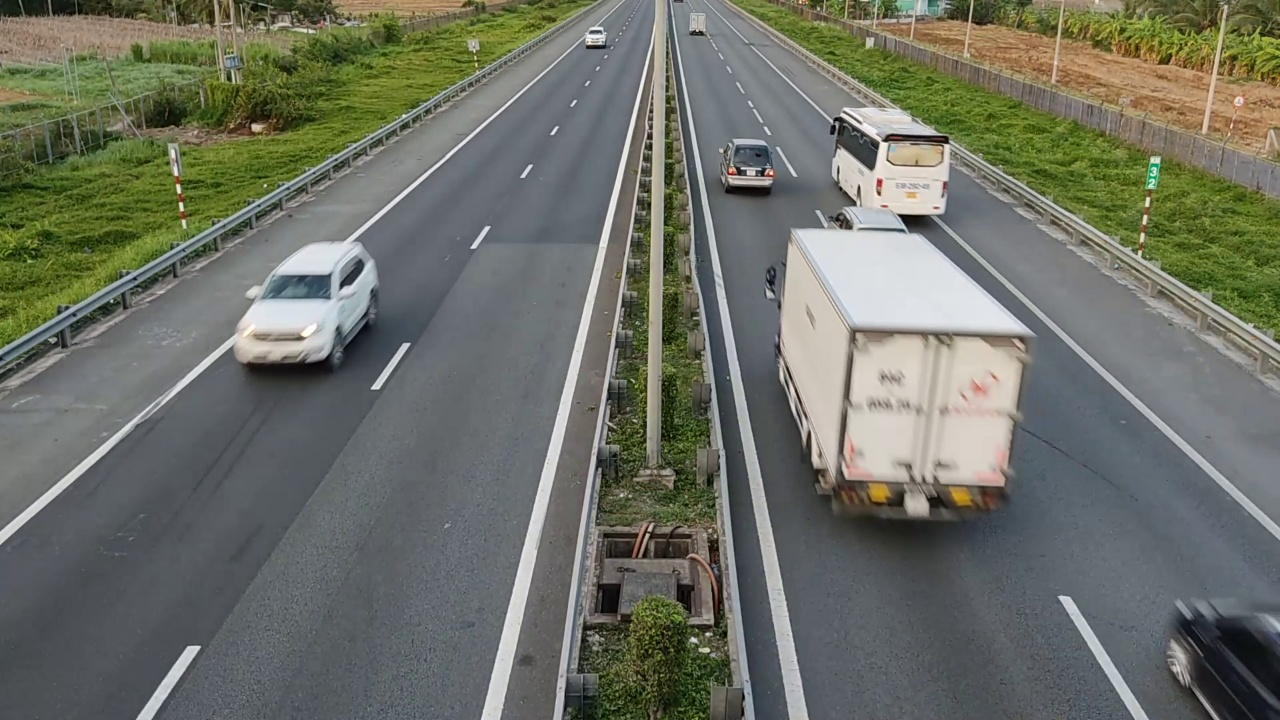bus: (827, 99, 954, 221)
car: (232, 239, 381, 372), (1162, 597, 1280, 717), (718, 137, 776, 194), (585, 25, 608, 48)
truck: (767, 211, 1036, 523)
